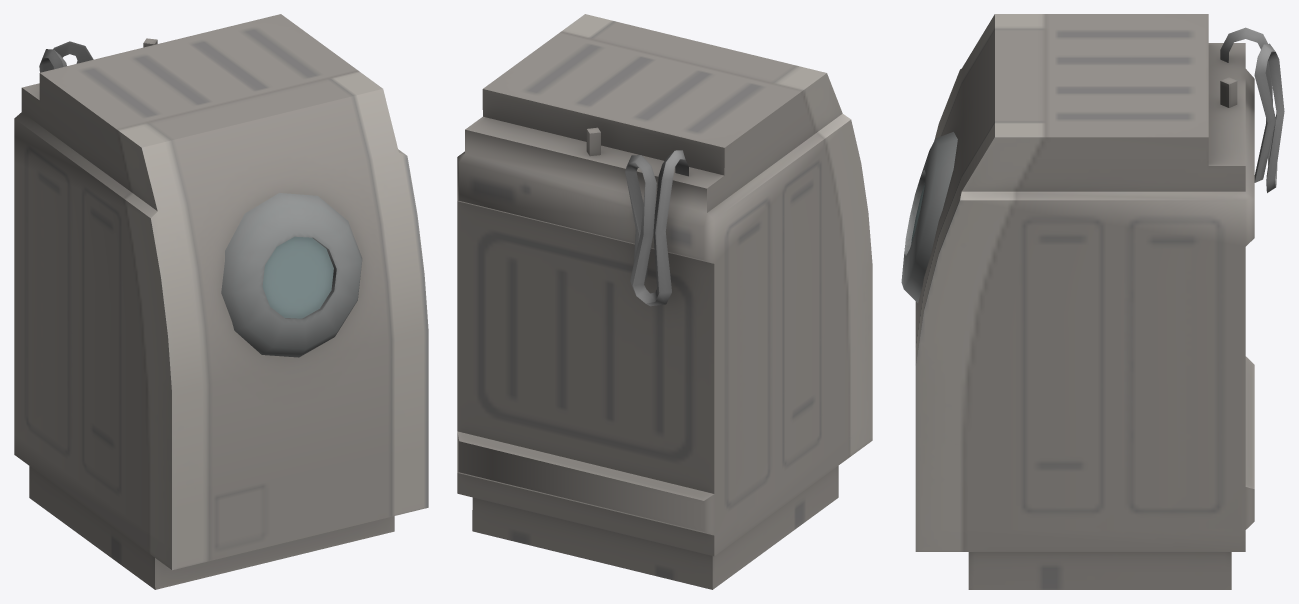
File: sb_obj_ModernCity073_wash_machine.fbx
The picture shows the model from 3 angles, left to right: view 1: azimuth 30°, elevation 25°; view 2: azimuth 150°, elevation 25°; view 3: azimuth 270°, elevation 25°; orthographic projection. The views are drawn at different scales.
Parts seen in each view (by area): view 1: sb_obj_ModernCity073_wash_machine; view 2: sb_obj_ModernCity073_wash_machine; view 3: sb_obj_ModernCity073_wash_machine.
Boxes of the visible parts, left/top/right/bottom form: sb_obj_ModernCity073_wash_machine: left=14, top=14, right=428, bottom=589; sb_obj_ModernCity073_wash_machine: left=457, top=14, right=872, bottom=589; sb_obj_ModernCity073_wash_machine: left=901, top=14, right=1284, bottom=589.
Bounding box in the file's own units: 0.5015 × 0.8144 × 0.6201.
Materials: 1 (1 with a texture image).
